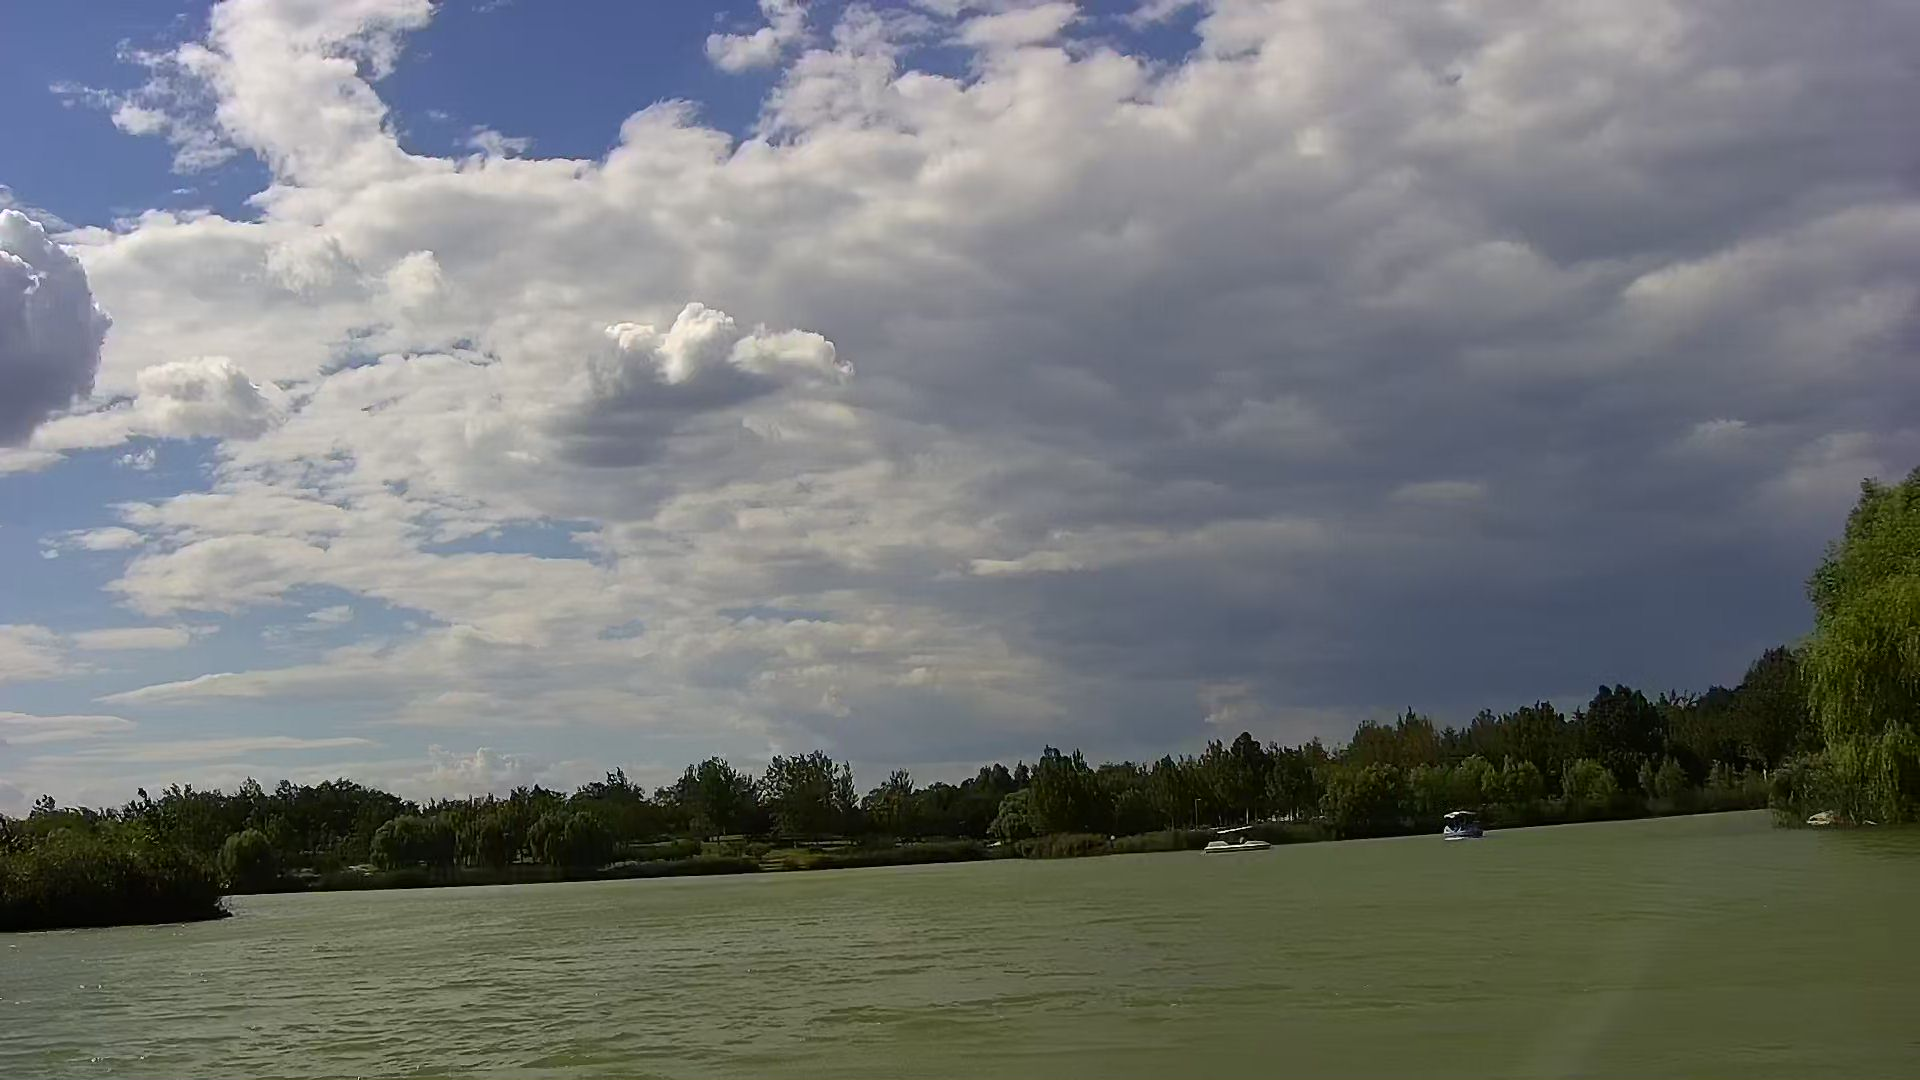boat: (1200, 825, 1276, 855), (1440, 807, 1487, 844)
rock: (1811, 811, 1847, 829)
